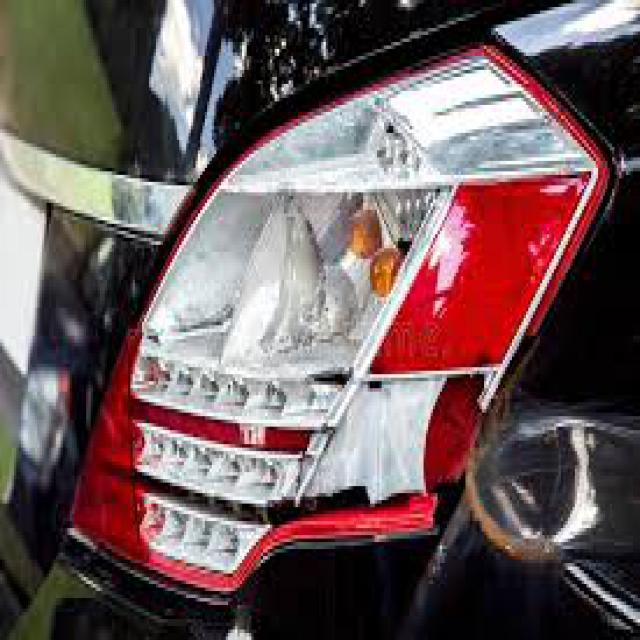Taillight-Damage: (27, 39, 628, 636)
